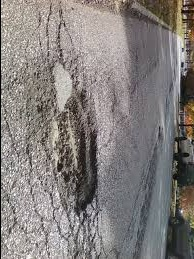pothole: (45, 80, 94, 224), (156, 124, 163, 149)
